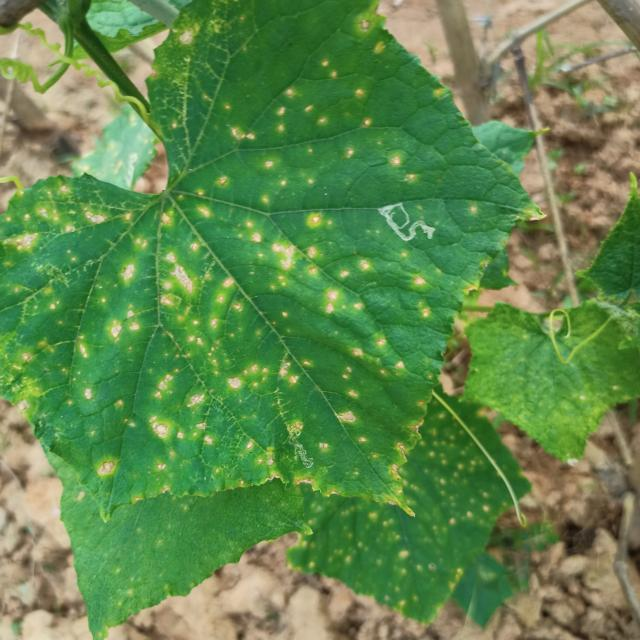disease_cucumber: (14, 34, 433, 500)
